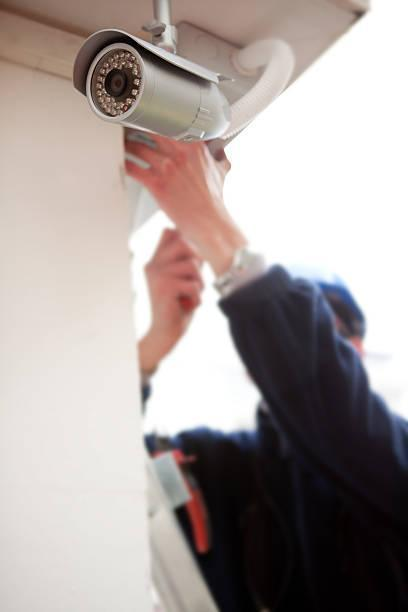camera: (68, 0, 233, 167)
